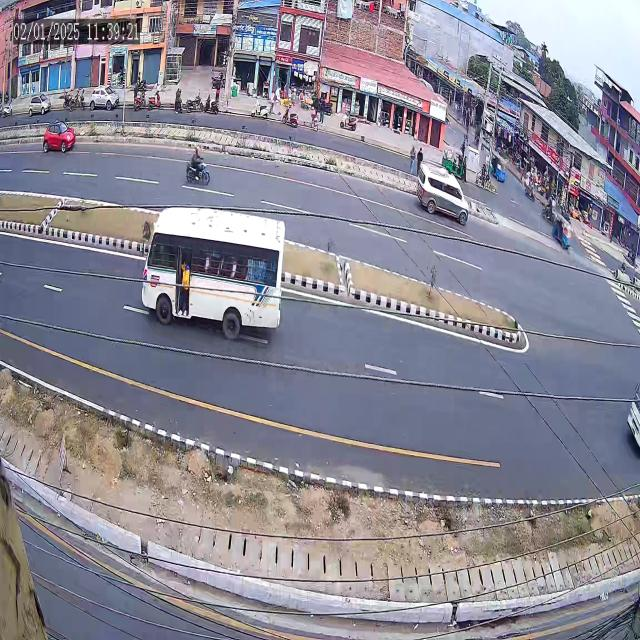bus: (132, 195, 292, 359)
car: (40, 118, 80, 164)
motorcycle: (181, 137, 213, 190)
